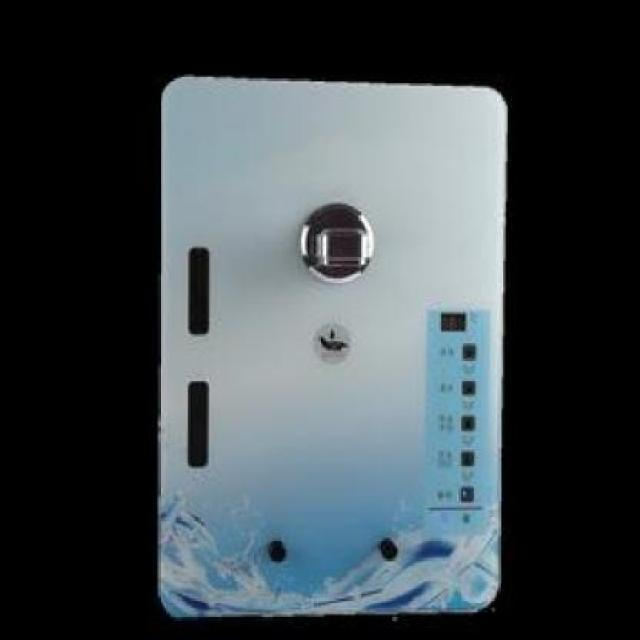cooler: (157, 71, 515, 623)
